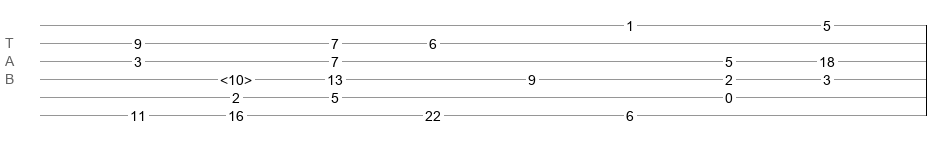0: (725, 90, 733, 100)
1: (626, 18, 634, 28)
11: (130, 108, 146, 118)
13: (327, 72, 343, 82)
16: (228, 108, 244, 118)
18: (819, 54, 835, 64)
2: (232, 90, 240, 100), (725, 72, 733, 82)
22: (425, 108, 441, 118)
3: (134, 54, 142, 64), (823, 72, 831, 82)
5: (331, 90, 339, 100), (725, 54, 733, 64), (823, 18, 831, 28)
6: (429, 36, 437, 46), (626, 108, 634, 118)
7: (331, 54, 339, 64), (331, 36, 339, 46)
9: (134, 36, 142, 46), (528, 72, 536, 82)
harmonic: (220, 72, 252, 82)
